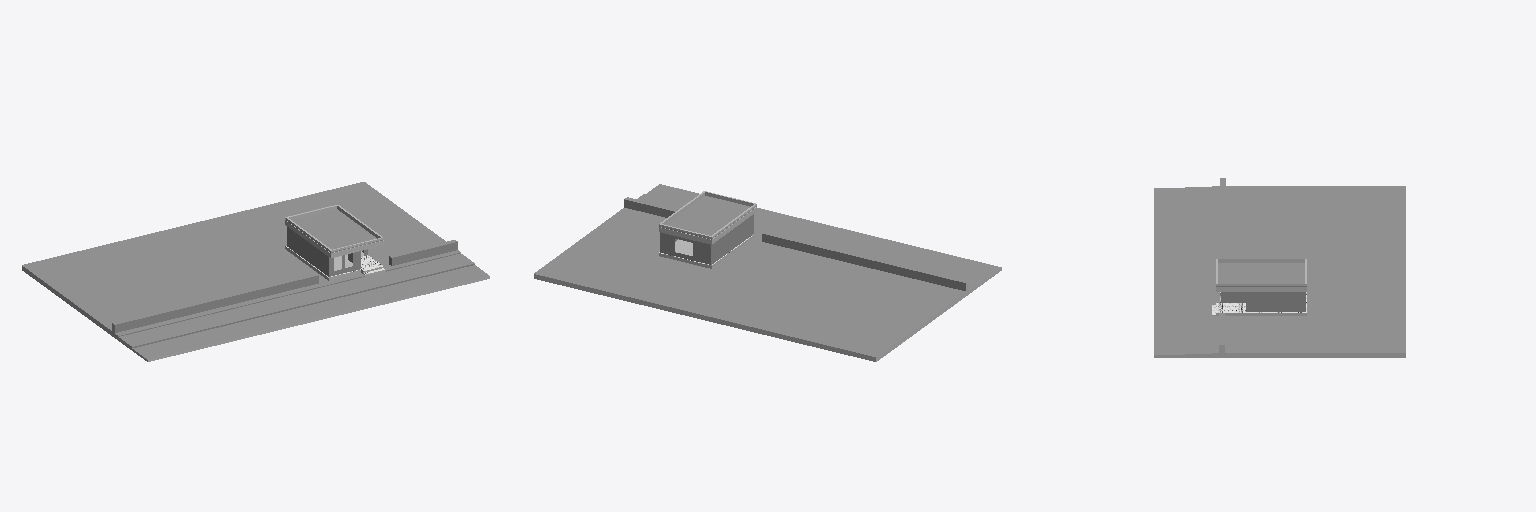
The picture shows the model from 3 angles: view 1: azimuth 30°, elevation 25°; view 2: azimuth 150°, elevation 25°; view 3: azimuth 270°, elevation 25°; orthographic projection.
Bounding box in the file's own units: 1503 × 154 × 958.
9 materials, 1 textured.